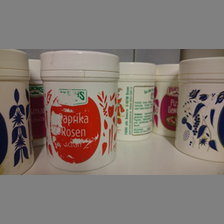spices: (40, 50, 120, 172), (173, 55, 224, 162)
